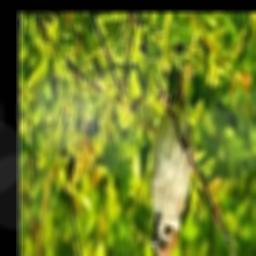Sparrow: (149, 42, 194, 256)
